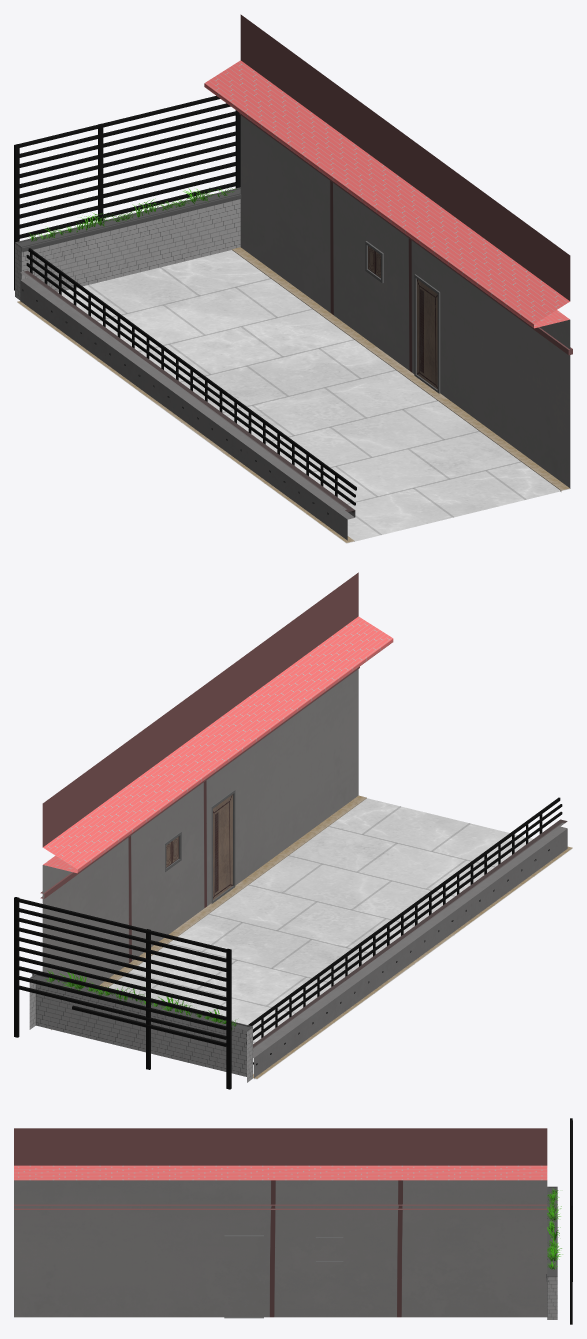
File: new rooftop.fbx
The picture shows the model from 3 angles, top to bottom: view 1: azimuth 30°, elevation 25°; view 2: azimuth 150°, elevation 25°; view 3: azimuth 270°, elevation 25°; orthographic projection. The views are drawn at different scales.
Visible parts, largest first — view 1: wall_01_geo, base_01_geo, polySurface3, base_04_geo, base_02_geo, door_geo, polySurface4, polySurface5, polySurface6, base_03_geo, polySurface30, polySurface13 (+10 smaller); view 2: wall_01_geo, base_01_geo, polySurface3, base_04_geo, door_geo, base_02_geo, polySurface4, polySurface6, polySurface5, base_03_geo, polySurface19, polySurface12 (+12 smaller); view 3: wall_01_geo, wall_03_geo, base_04_geo, polySurface21.
Part boxes in pixels (left/top/right/bottom): wall_01_geo: left=204, top=14, right=570, bottom=488; base_01_geo: left=17, top=250, right=569, bottom=543; polySurface3: left=20, top=270, right=355, bottom=540; base_04_geo: left=15, top=187, right=240, bottom=300; base_02_geo: left=232, top=247, right=569, bottom=491; door_geo: left=414, top=274, right=440, bottom=393; polySurface4: left=28, top=248, right=356, bottom=490; polySurface5: left=26, top=255, right=355, bottom=497; polySurface6: left=26, top=263, right=355, bottom=505; base_03_geo: left=17, top=301, right=354, bottom=542; polySurface30: left=22, top=194, right=241, bottom=251; polySurface13: left=19, top=151, right=236, bottom=208; wall_01_geo: left=42, top=572, right=393, bottom=985; base_01_geo: left=109, top=798, right=572, bottom=1079; polySurface3: left=253, top=819, right=567, bottom=1078; base_04_geo: left=29, top=974, right=252, bottom=1082; door_geo: left=211, top=790, right=235, bottom=903; base_02_geo: left=51, top=795, right=366, bottom=1029; polySurface4: left=248, top=797, right=560, bottom=1025; polySurface6: left=246, top=811, right=562, bottom=1044; polySurface5: left=246, top=804, right=562, bottom=1036; base_03_geo: left=253, top=846, right=572, bottom=1078; polySurface19: left=17, top=898, right=226, bottom=952; polySurface12: left=17, top=966, right=226, bottom=1020; wall_01_geo: left=14, top=1128, right=547, bottom=1317; wall_03_geo: left=14, top=1204, right=547, bottom=1209; base_04_geo: left=547, top=1186, right=557, bottom=1319; polySurface21: left=570, top=1205, right=572, bottom=1324.
Size of the model in its own units: 58.53 by 55.31 by 147.
